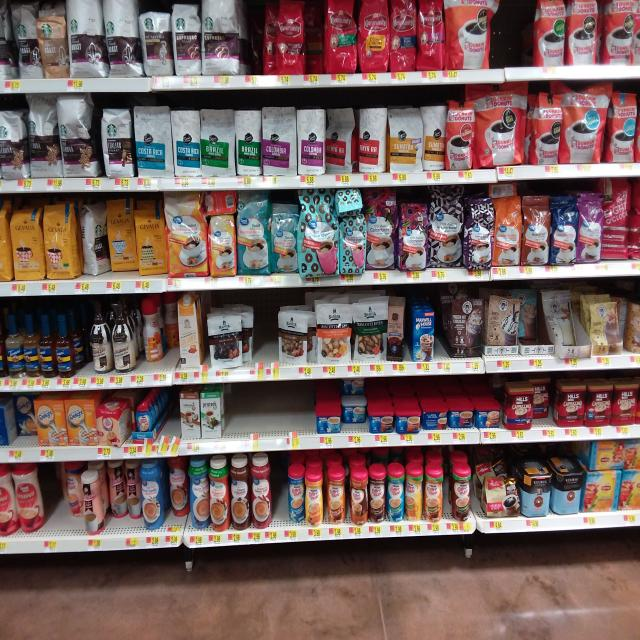void: (227, 383, 312, 436), (491, 0, 535, 65), (243, 2, 277, 76), (248, 291, 277, 363), (43, 463, 63, 527)
